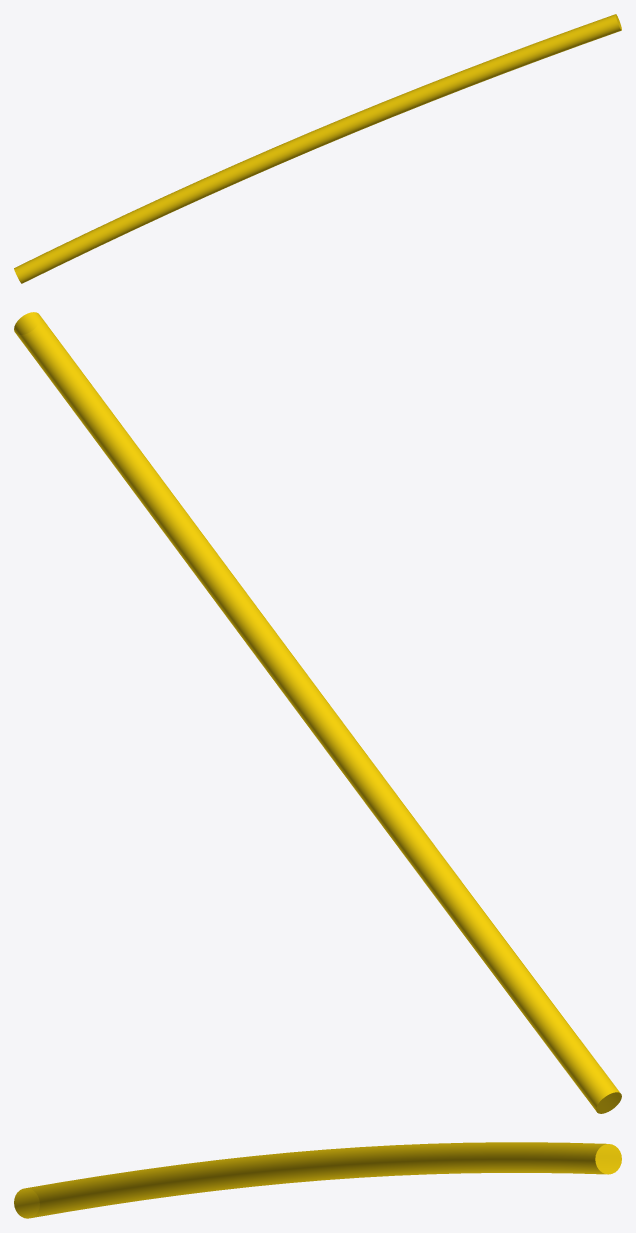
Rendered from Event_421364160_track_72.fbx.
3 views of the same model, one above another, from view 1: azimuth 30°, elevation 25°; view 2: azimuth 150°, elevation 25°; view 3: azimuth 330°, elevation 25° (orthographic). The views are drawn at different scales.
Parts seen in each view (by area): view 1: Model; view 2: Model; view 3: Model.
Boxes of the visible parts, x1,y1,x2,y2 form: Model: (14, 14, 621, 283); Model: (14, 312, 621, 1113); Model: (14, 1142, 621, 1218).
Size of the model in its own units: 1.25 by 0.6304 by 0.6406.
